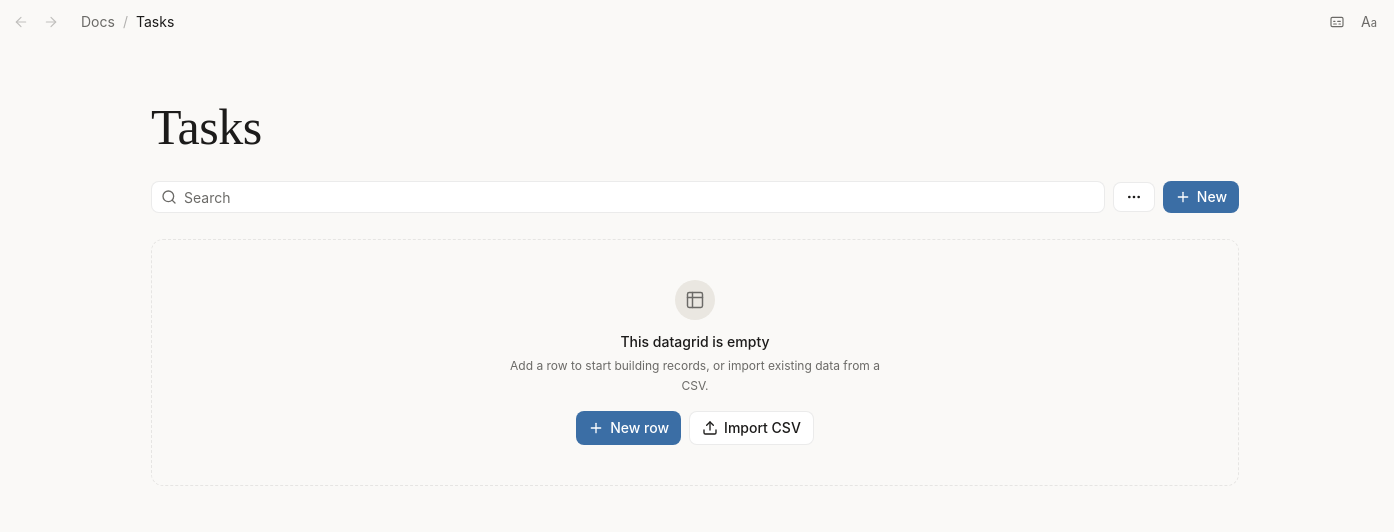
Test: DatagridPage › opens filter, fields, and layout from the options menu
Click the button named "View options" at (1134, 197), box [1113,182,1155,212]
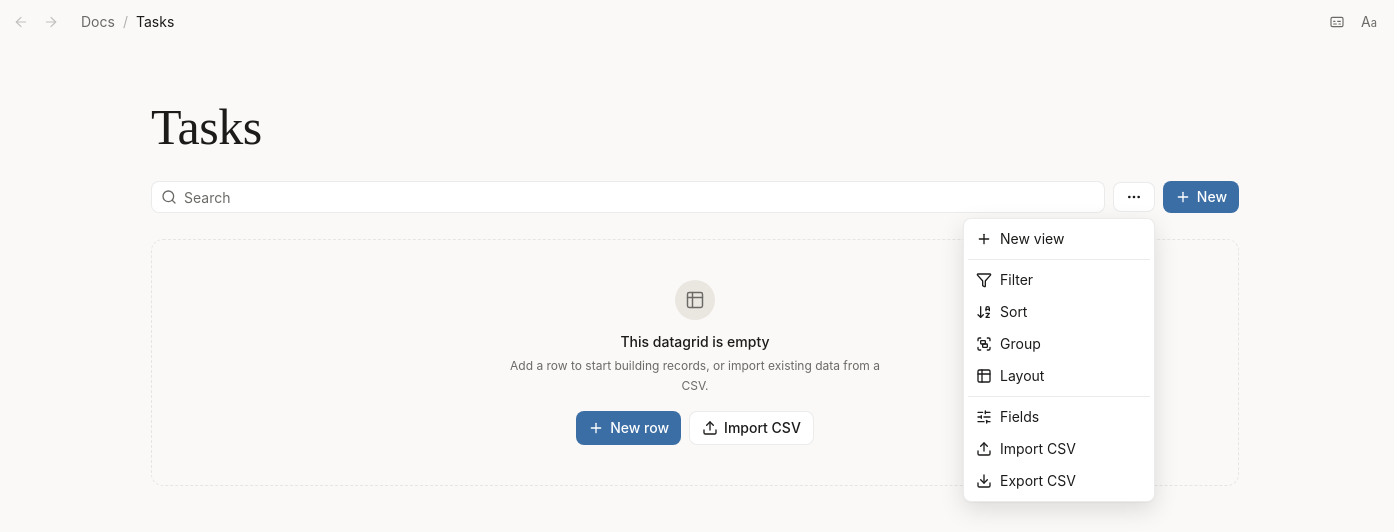
Check: the menu item "Filter" is shown, box [976,271,1033,288]
Check: the menu item "Sort" is shown, box [976,303,1028,320]
Check: the menu item "Group" is shown, box [976,335,1041,352]
